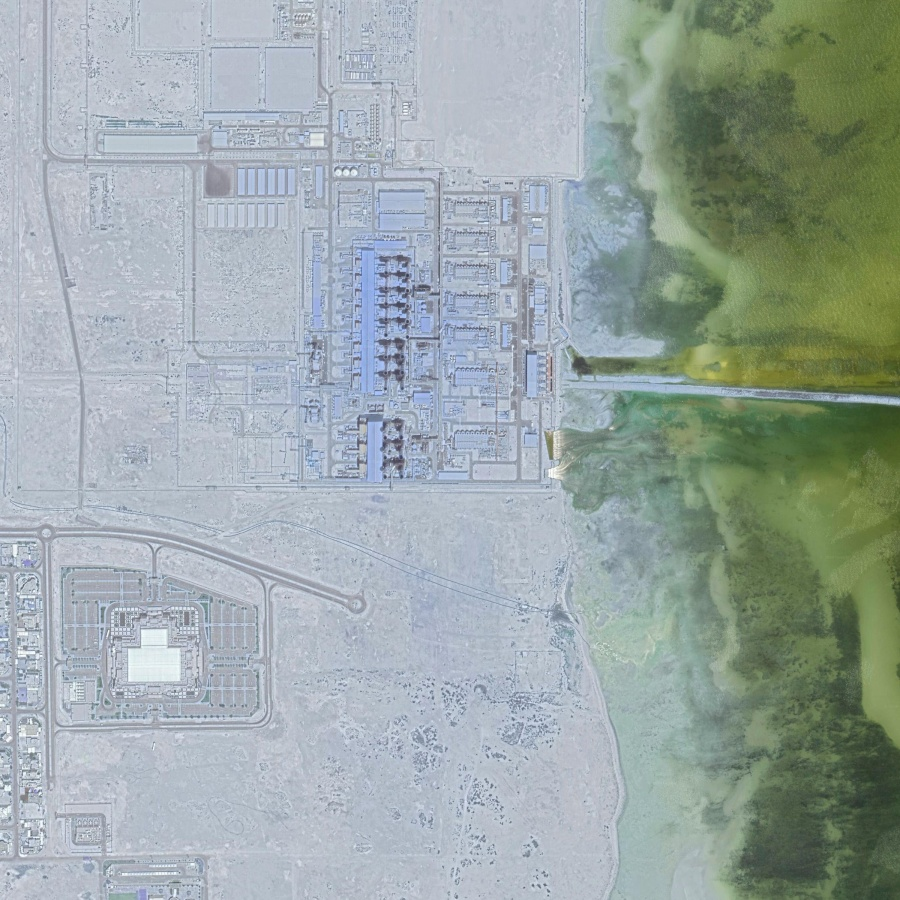PowerPlant: (322, 157, 584, 483)
